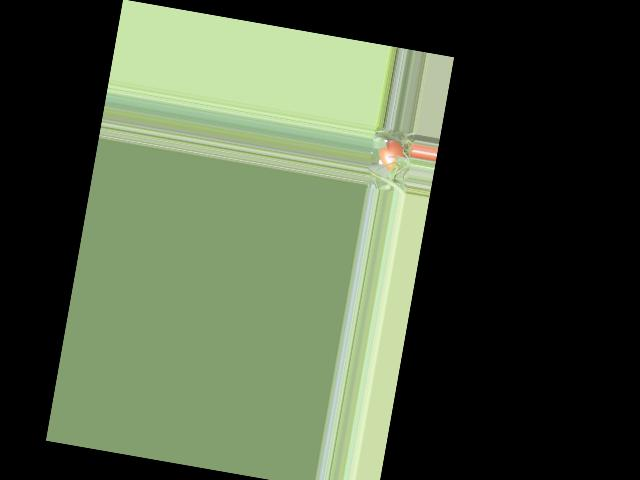tomato: (376, 138, 407, 172)
